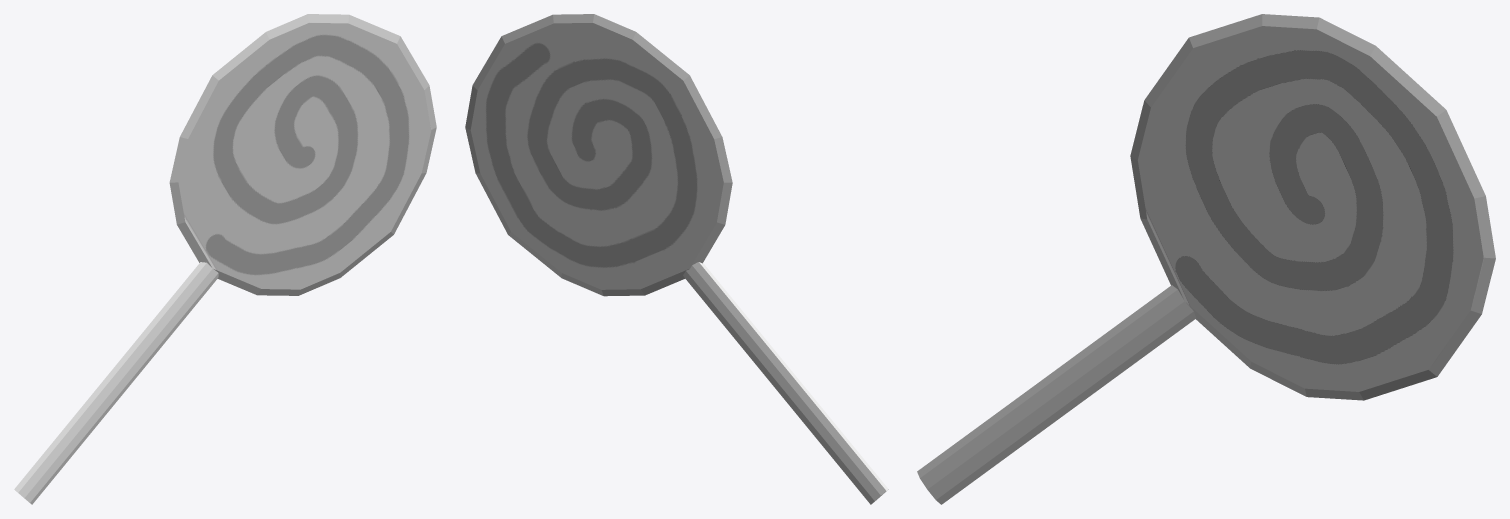
File: Lolipop.obj
3 renders of one model, left to right at view 1: azimuth 30°, elevation 25°; view 2: azimuth 150°, elevation 25°; view 3: azimuth 330°, elevation 25°, orthographic. The views are drawn at different scales.
Visible parts, largest first — view 1: 円柱; view 2: 円柱; view 3: 円柱.
Boxes of the visible parts, <box> form: 円柱: <box>14,14,436,504</box>; 円柱: <box>465,14,888,504</box>; 円柱: <box>917,14,1495,504</box>.
Bounding box in the file's own units: 3.68 × 3.53 × 0.0516.
Materials: 1 (1 with a texture image).
